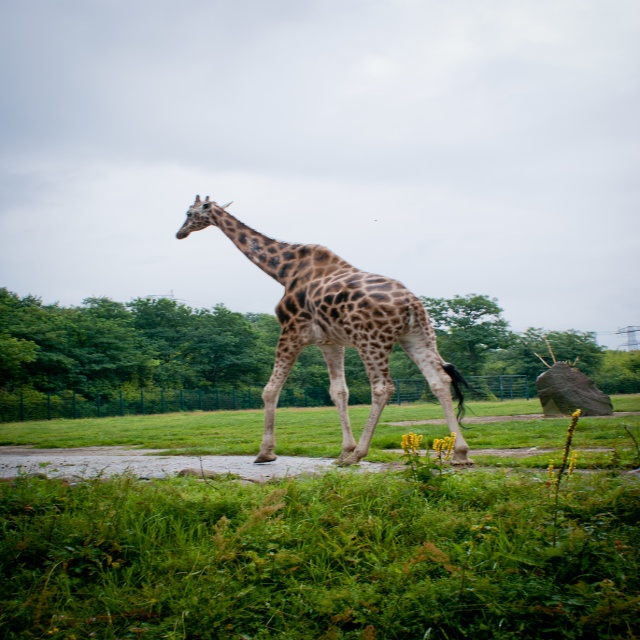Giraffe: (176, 195, 490, 467)
